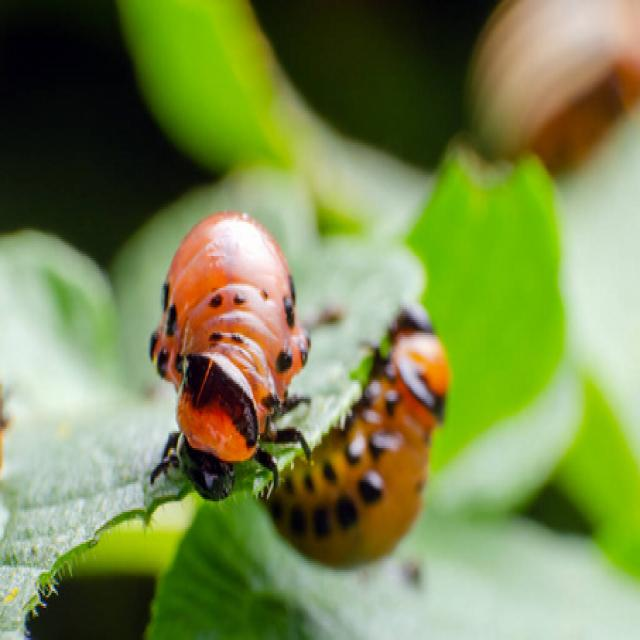ShuCaiHuaBanChong-Larva-: (261, 289, 452, 576), (168, 189, 296, 479)
